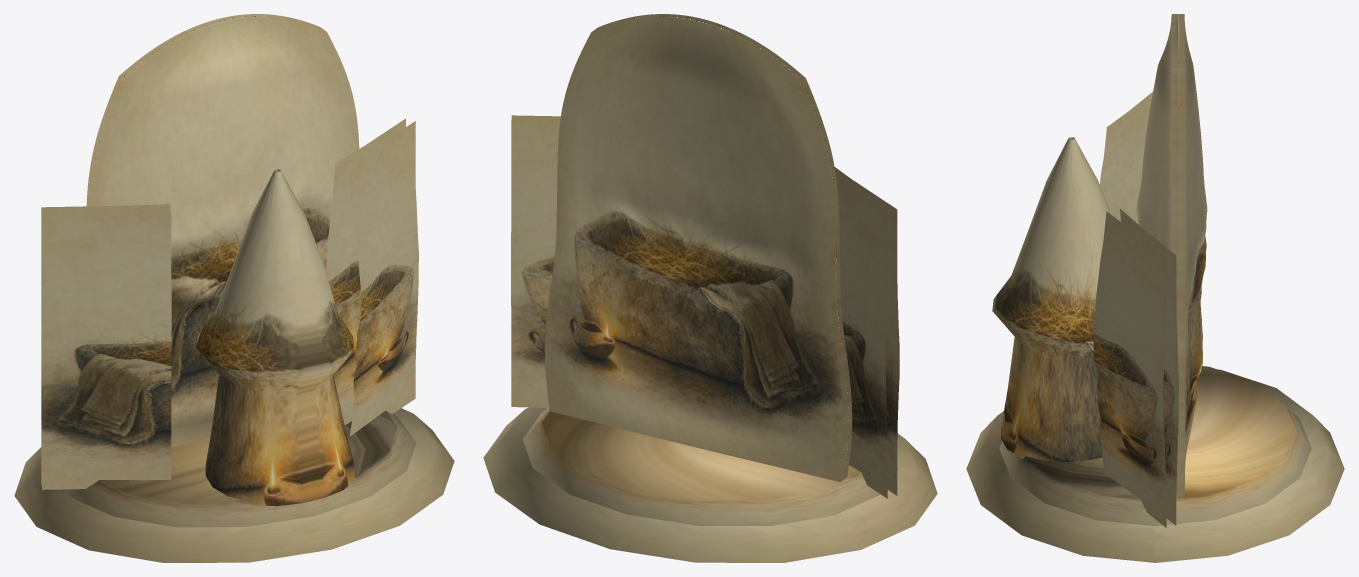
Rendered from good-news-of-great-joy-5.glb.
3 renders of one model, left to right at view 1: azimuth 30°, elevation 25°; view 2: azimuth 150°, elevation 25°; view 3: azimuth 270°, elevation 25°, orthographic. The views are drawn at different scales.
Parts seen in each view (by area): view 1: PaintingSculptureMonument; view 2: PaintingSculptureMonument; view 3: PaintingSculptureMonument.
Boxes of the visible parts, x1=… form: PaintingSculptureMonument: x1=14, y1=14, x2=454, y2=562; PaintingSculptureMonument: x1=483, y1=14, x2=937, y2=562; PaintingSculptureMonument: x1=966, y1=14, x2=1344, y2=562.
Size of the model in its own units: 2.76 by 2.99 by 2.35.
Materials: 1 (1 with a texture image).
